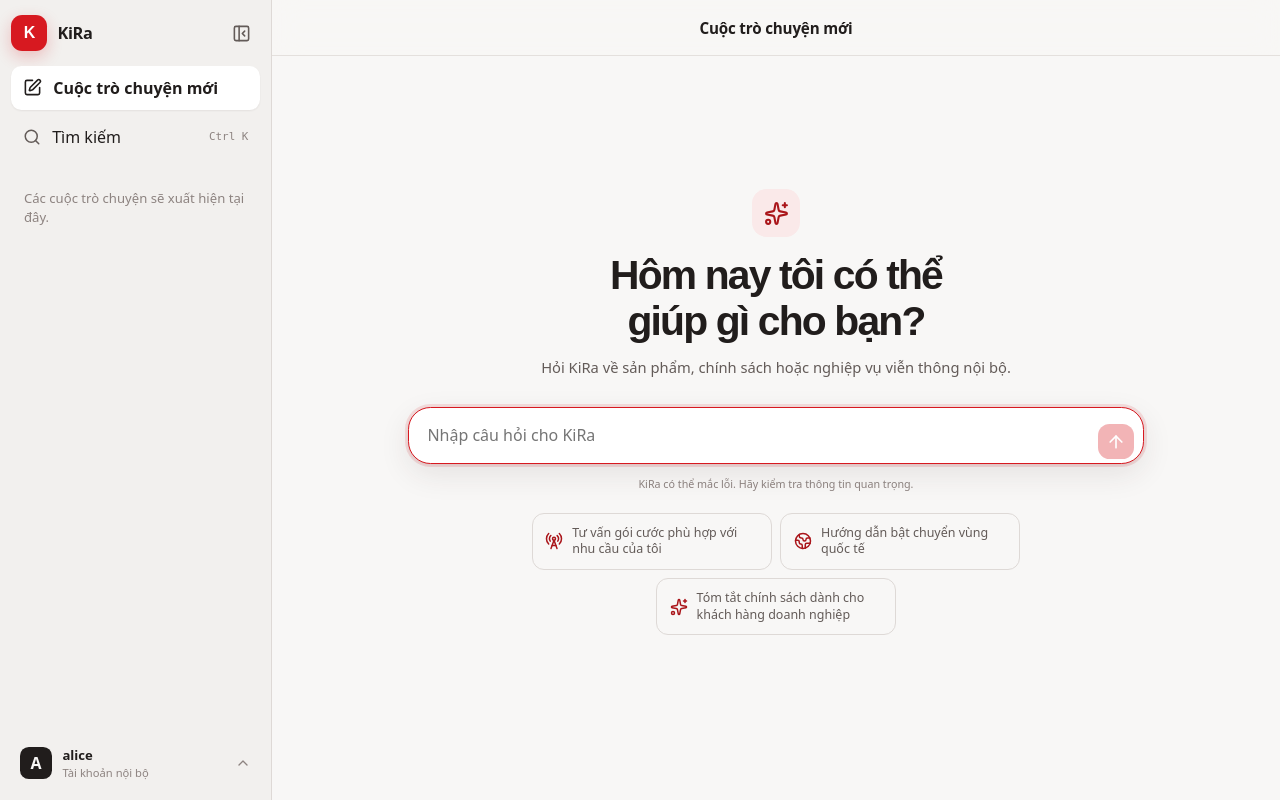
Scenario: application authentication routes › keeps the authenticated UI when logout cannot reach the backend
Click the button with aria-label "Mở menu tài khoản" at (136, 763), box [11,738,260,789]
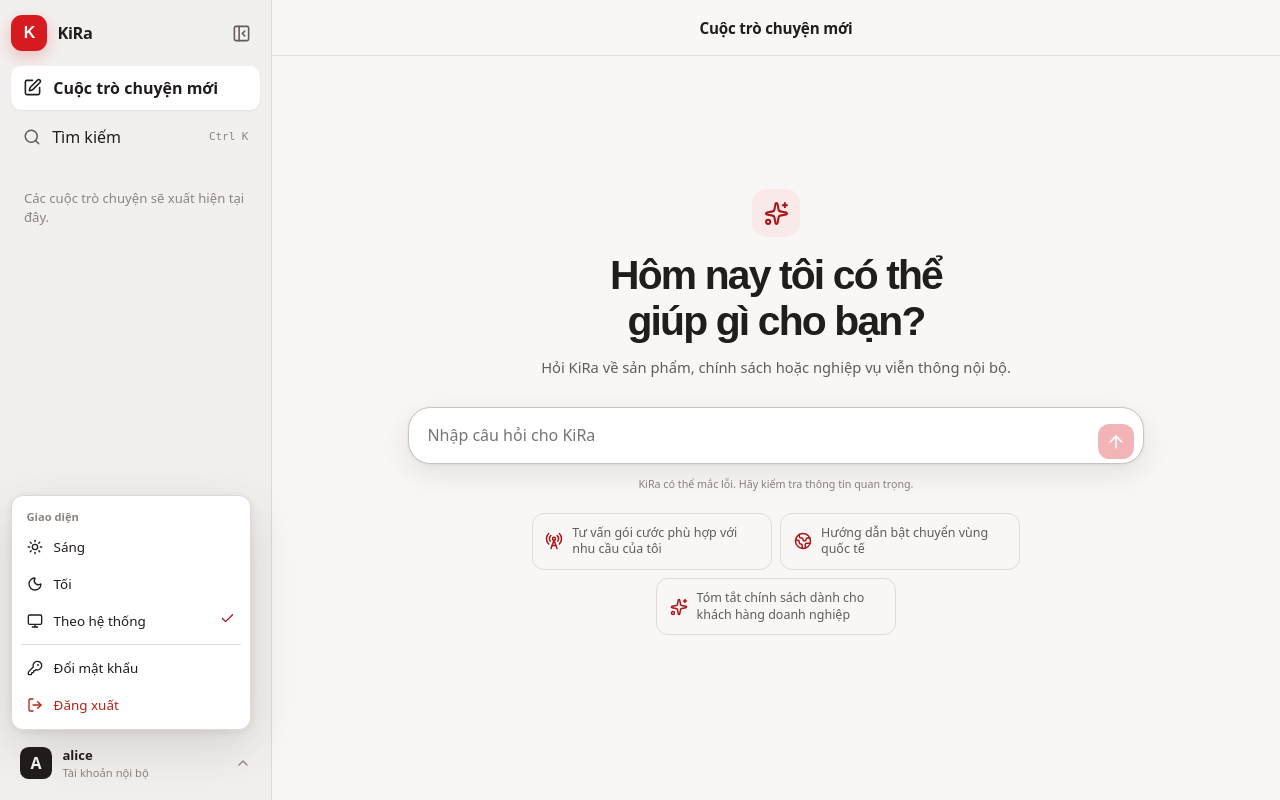
Click the menu item "Đăng xuất" at (73, 705), box [27,696,119,714]
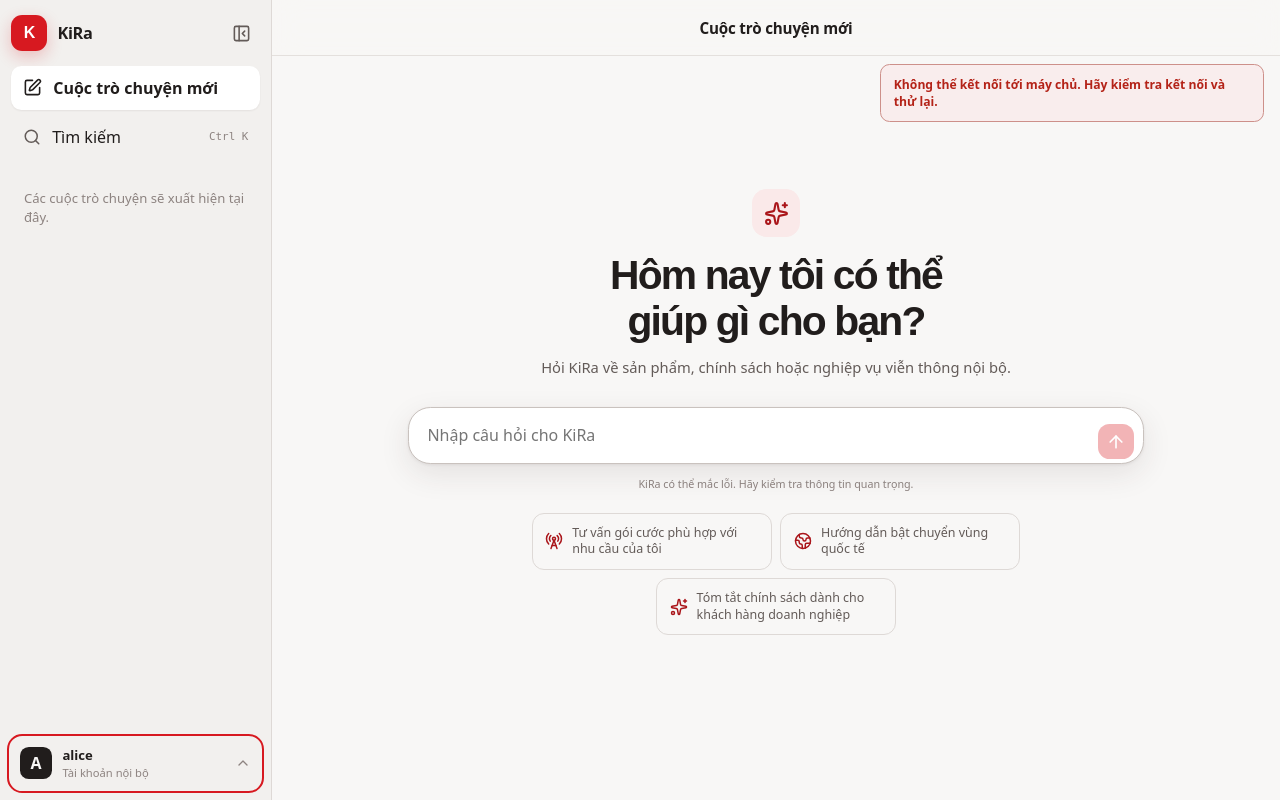
Expected: the heading "Hôm nay tôi có thể giúp gì cho bạn?" is shown, [610,252,942,344]
Expected: the message shows "Không thể kết nối tới máy chủ", [894,76,1225,110]
